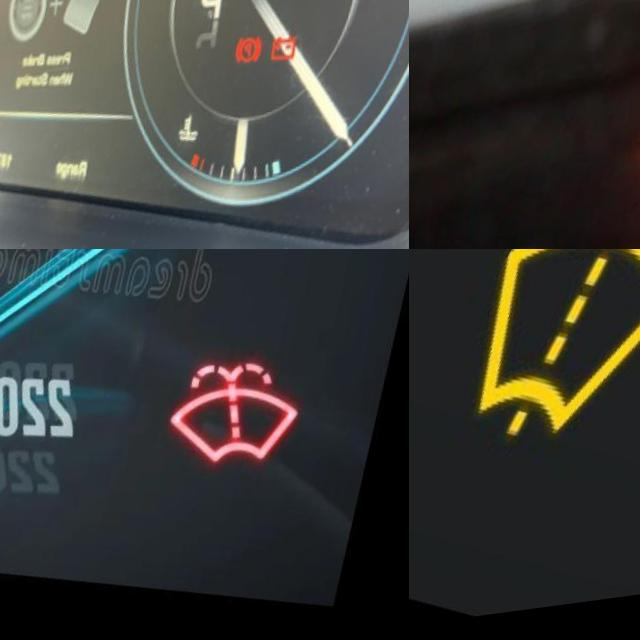Washer Fluid: (489, 249, 640, 450), (178, 365, 323, 485)
